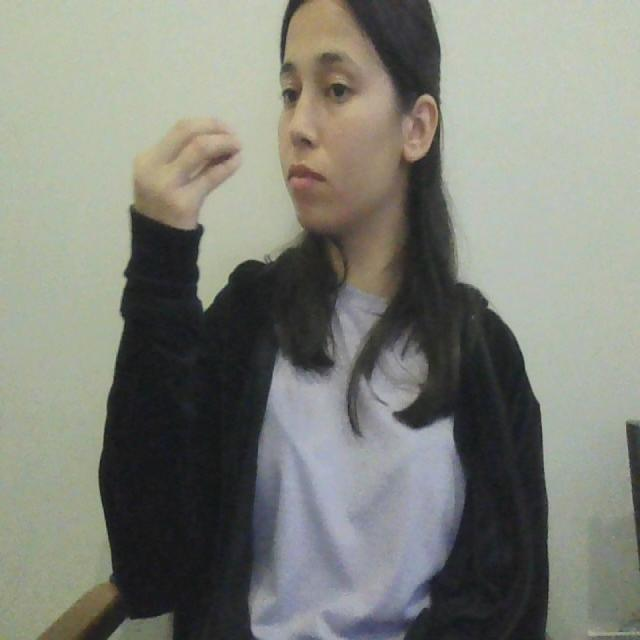Yemek: (133, 111, 331, 199)
